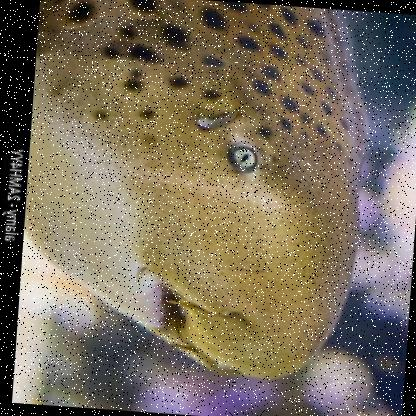zebra_shark: (12, 0, 390, 397)
